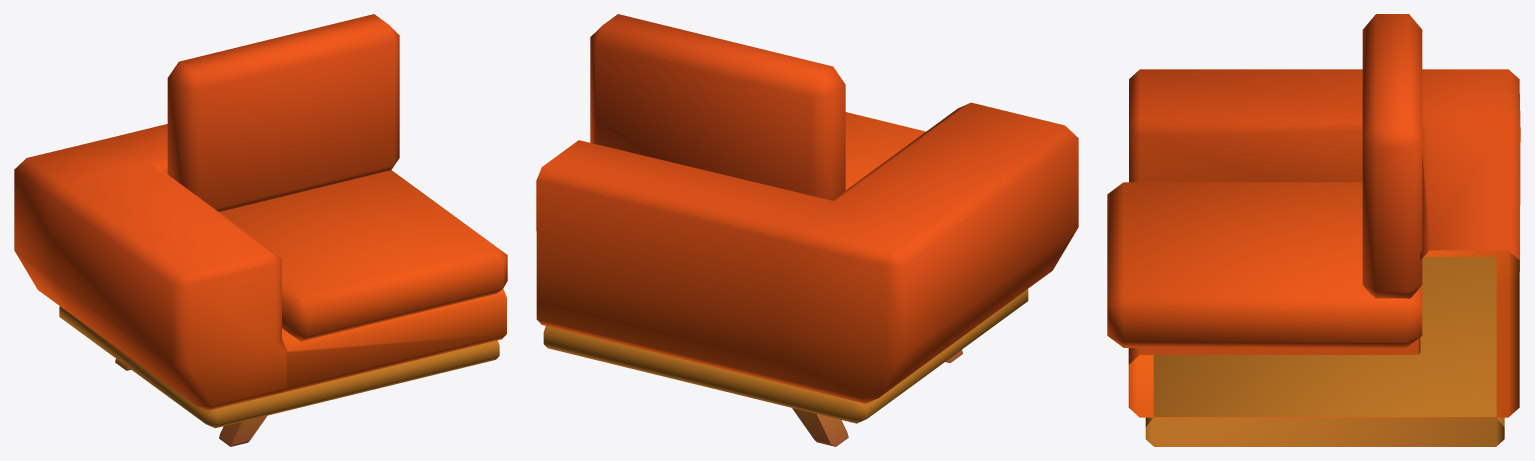
The model's file is Sofa_R.fbx.
The picture shows the model from 3 angles, left to right: view 1: azimuth 30°, elevation 25°; view 2: azimuth 150°, elevation 25°; view 3: azimuth 270°, elevation 25°; orthographic projection. The views are drawn at different scales.
Visible parts, largest first — view 1: LargestSofa_R_End; view 2: LargestSofa_R_End; view 3: LargestSofa_R_End.
Part boxes in pixels (box(x1,y1,x2,y2)): LargestSofa_R_End: box(14, 14, 507, 446); LargestSofa_R_End: box(536, 14, 1078, 446); LargestSofa_R_End: box(1107, 14, 1520, 446).
Size of the model in its own units: 4.49 by 4 by 4.16.
